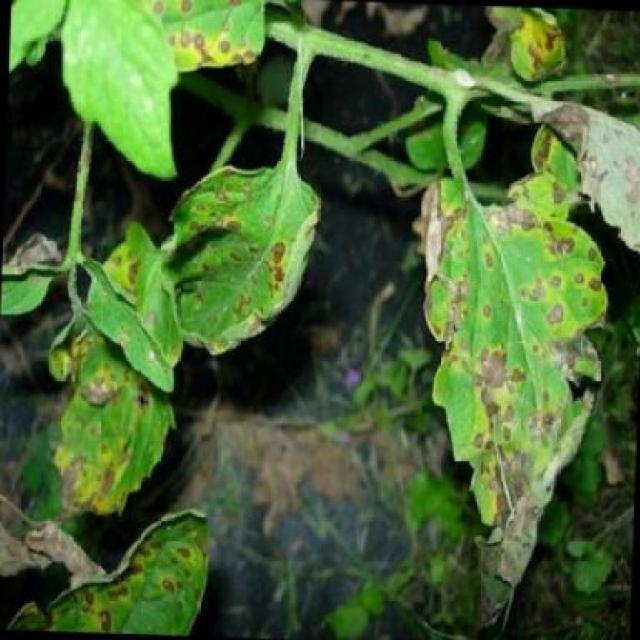Septoria leaf spot: (395, 143, 622, 589), (27, 217, 170, 566), (162, 141, 335, 364), (46, 471, 241, 634)
